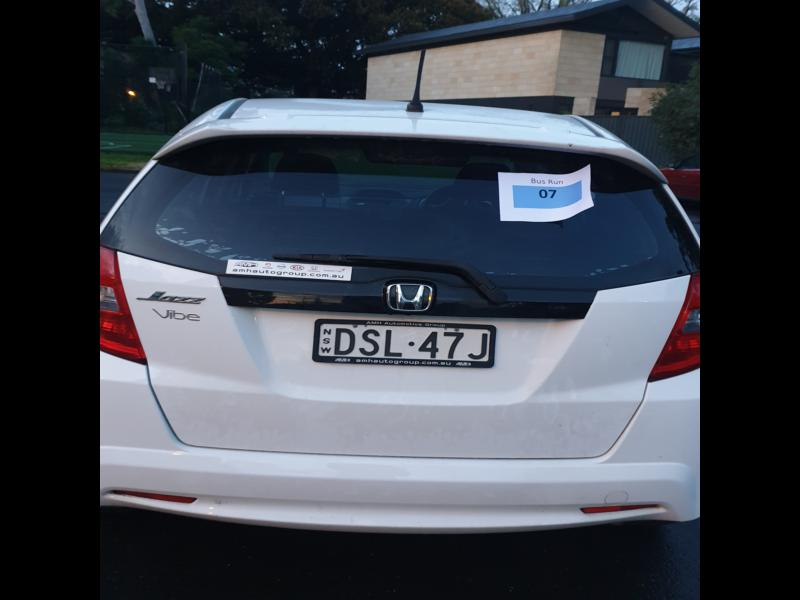BusRun: (514, 179, 584, 209)
PlateNo: (318, 322, 493, 365)
